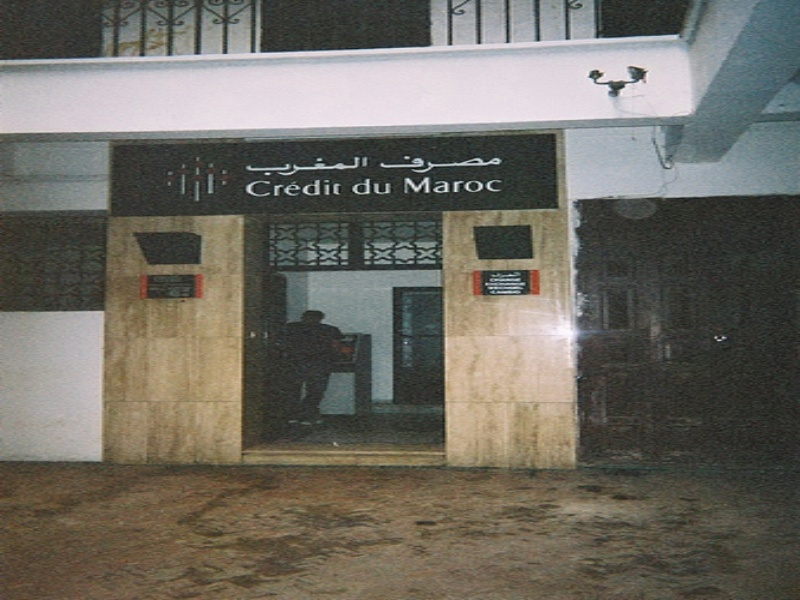person: (280, 310, 345, 424)
